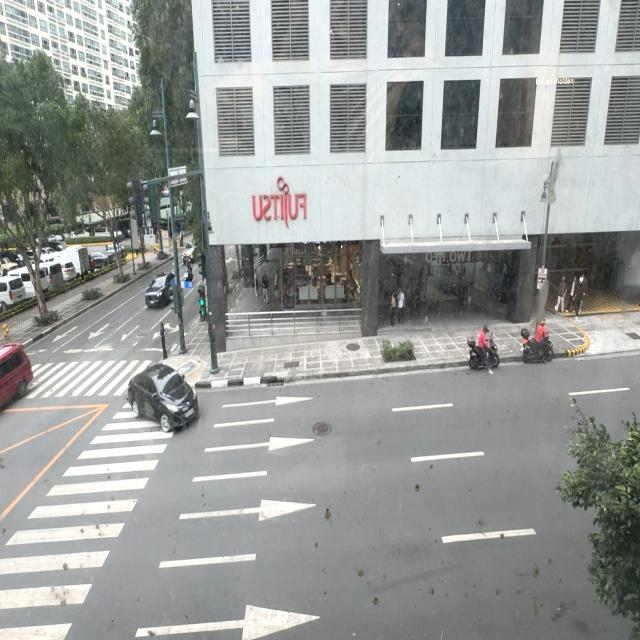waiting: (160, 322, 168, 359)
